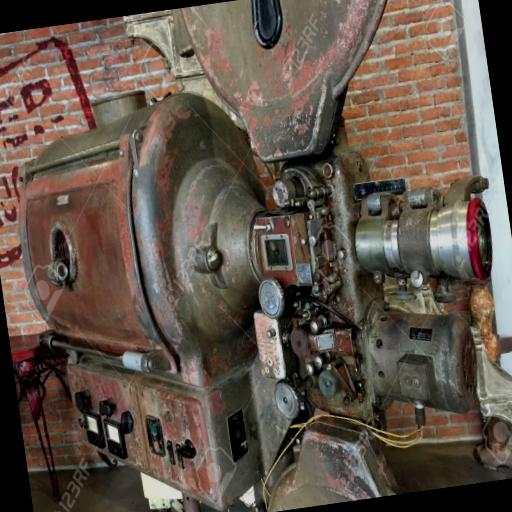segmentation: (13, 162, 149, 366)
